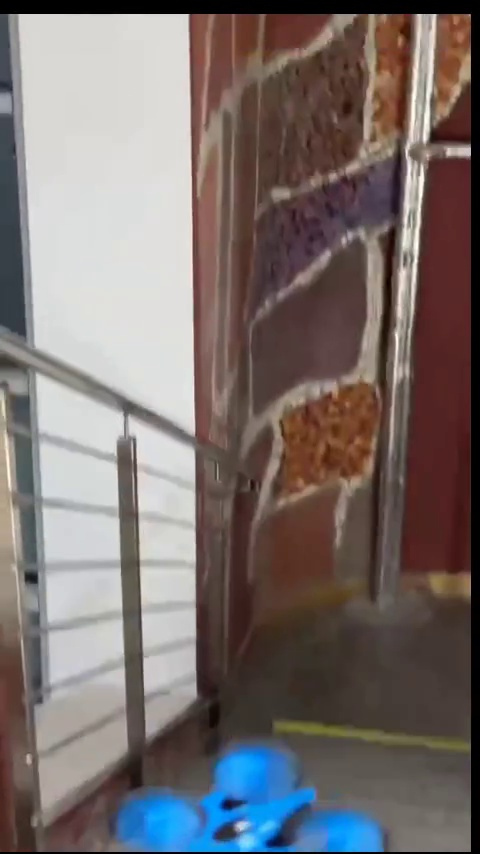drone: (117, 743, 388, 848)
